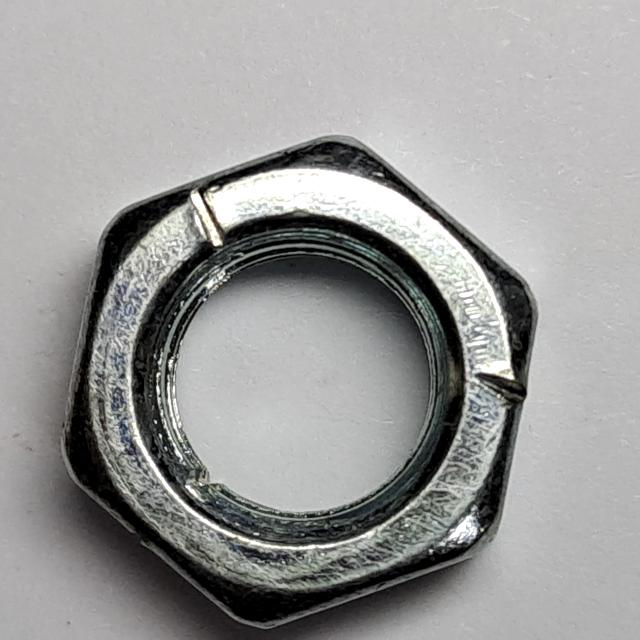Scratches: (47, 122, 549, 639)
